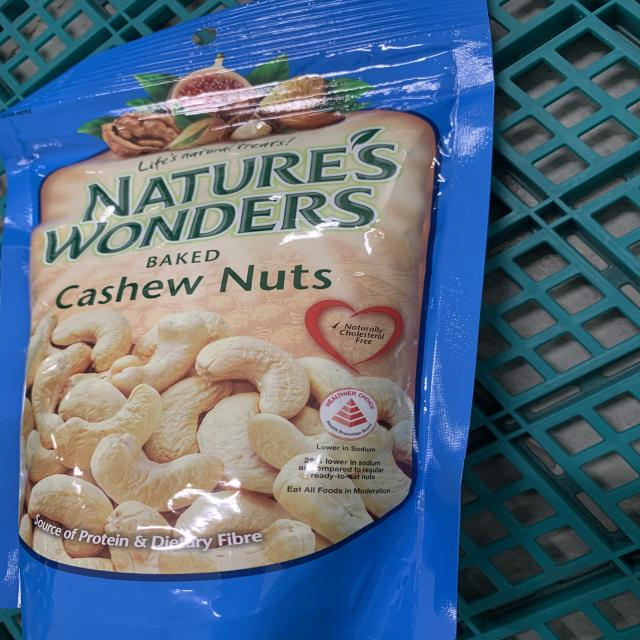object_name: (1, 9, 463, 640)
